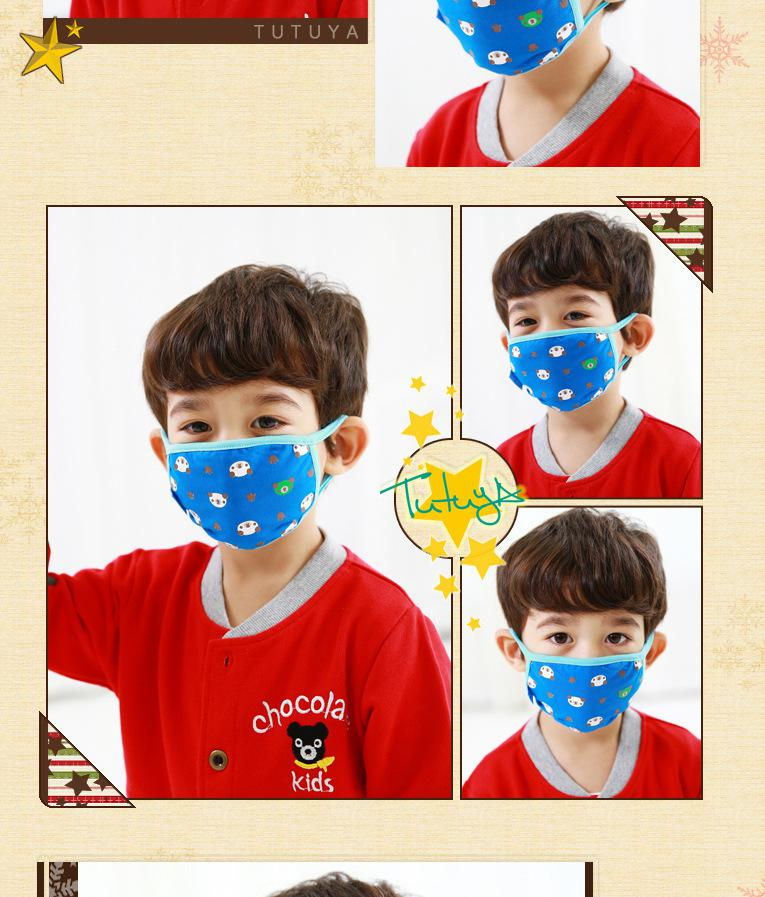OK: (164, 354, 323, 551), (522, 591, 642, 734), (507, 281, 619, 412)
